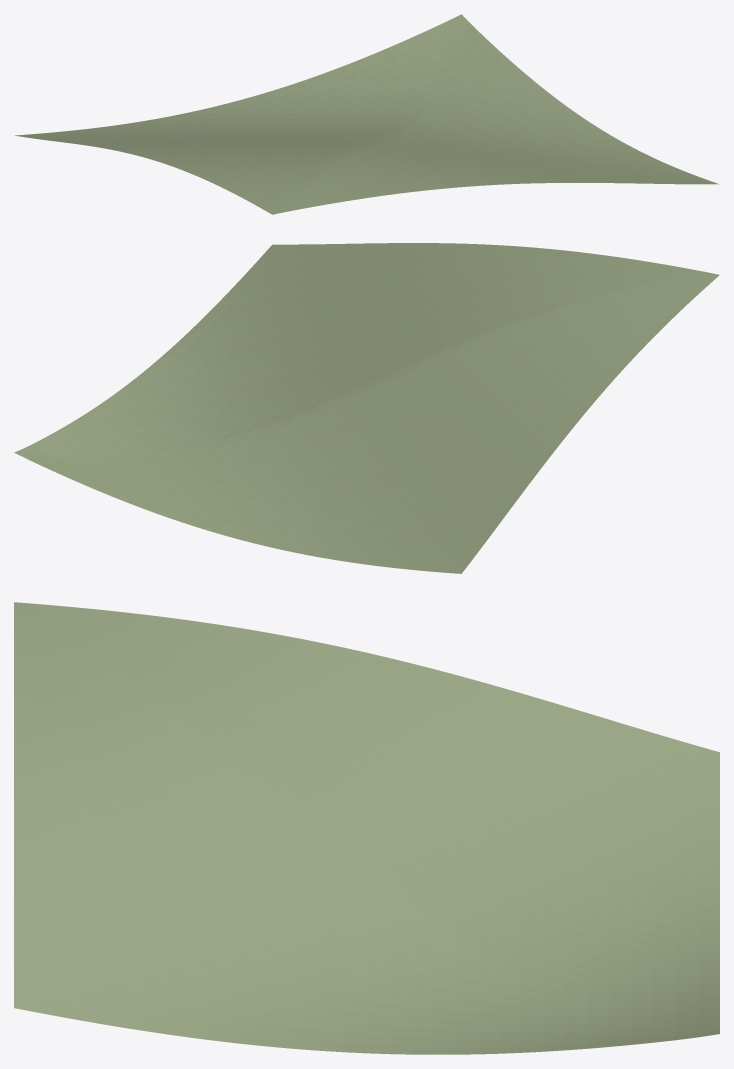
File: expanse-7-8.glb
The picture shows the model from 3 angles, top to bottom: view 1: azimuth 30°, elevation 25°; view 2: azimuth 150°, elevation 25°; view 3: azimuth 270°, elevation 25°; orthographic projection. The views are drawn at different scales.
Visible parts, largest first — view 1: expanse-7-8; view 2: expanse-7-8; view 3: expanse-7-8.
Part boxes in pixels (x1,y1,x2,y2): expanse-7-8: (15,14,718,214); expanse-7-8: (14,243,719,573); expanse-7-8: (14,602,719,1054).
Size of the model in its own units: 256 by 71.02 by 256.
